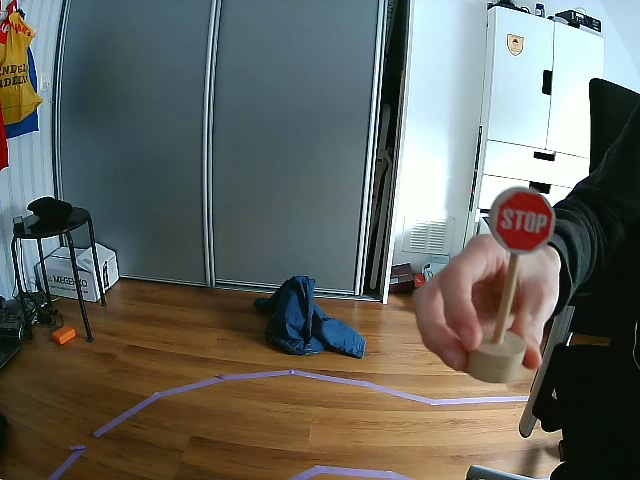stopbord: (491, 191, 555, 254)
